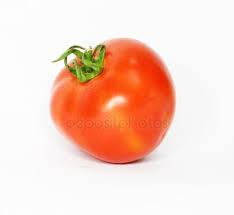tomato: (50, 36, 175, 163)
